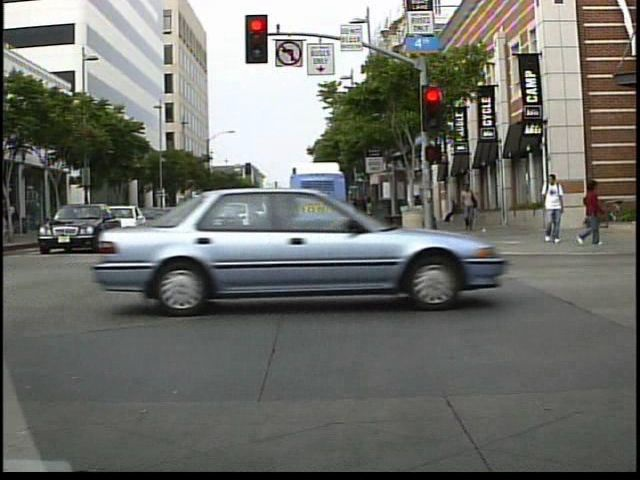person: (574, 177, 607, 248)
